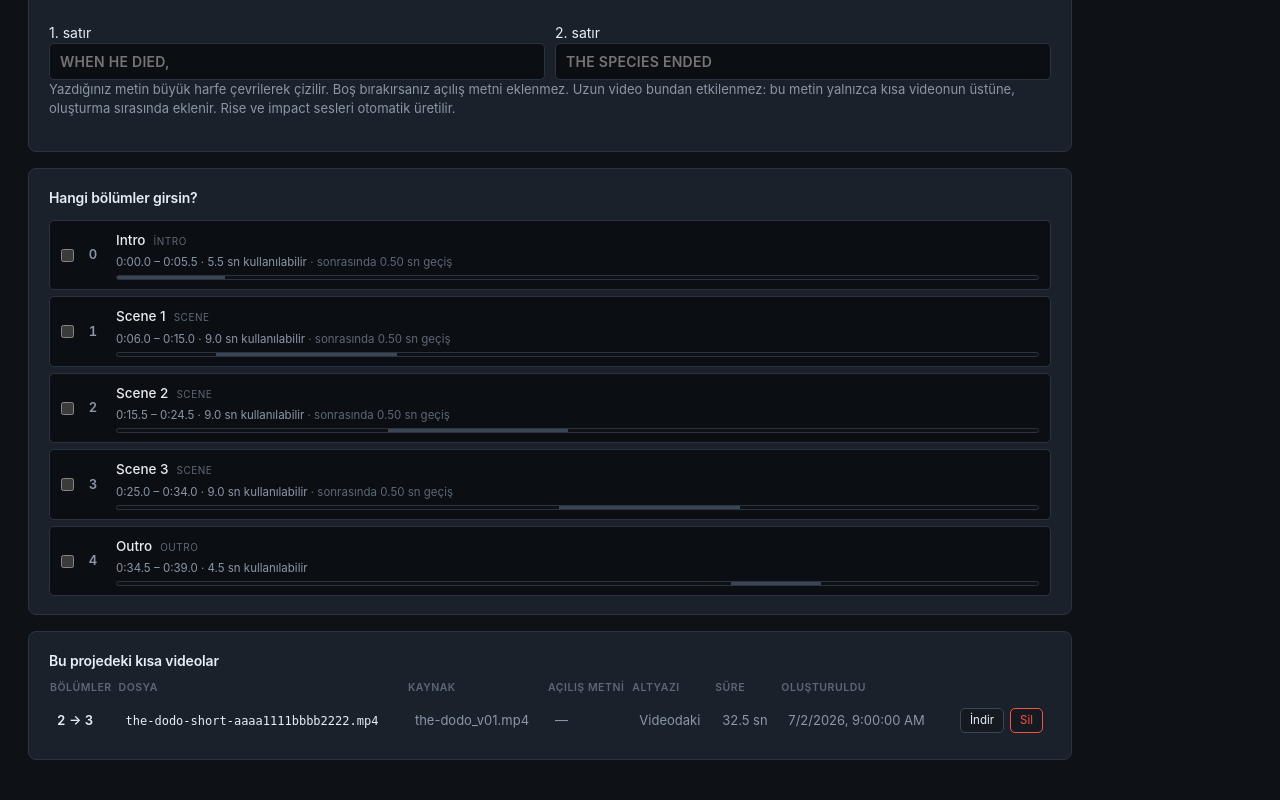
ShortsPage › confirms before deleting, and deletes only that Short
(page scrolled)
Step 1. Click the button "Sil" → (1026, 721), box [1010,708,1043,733]
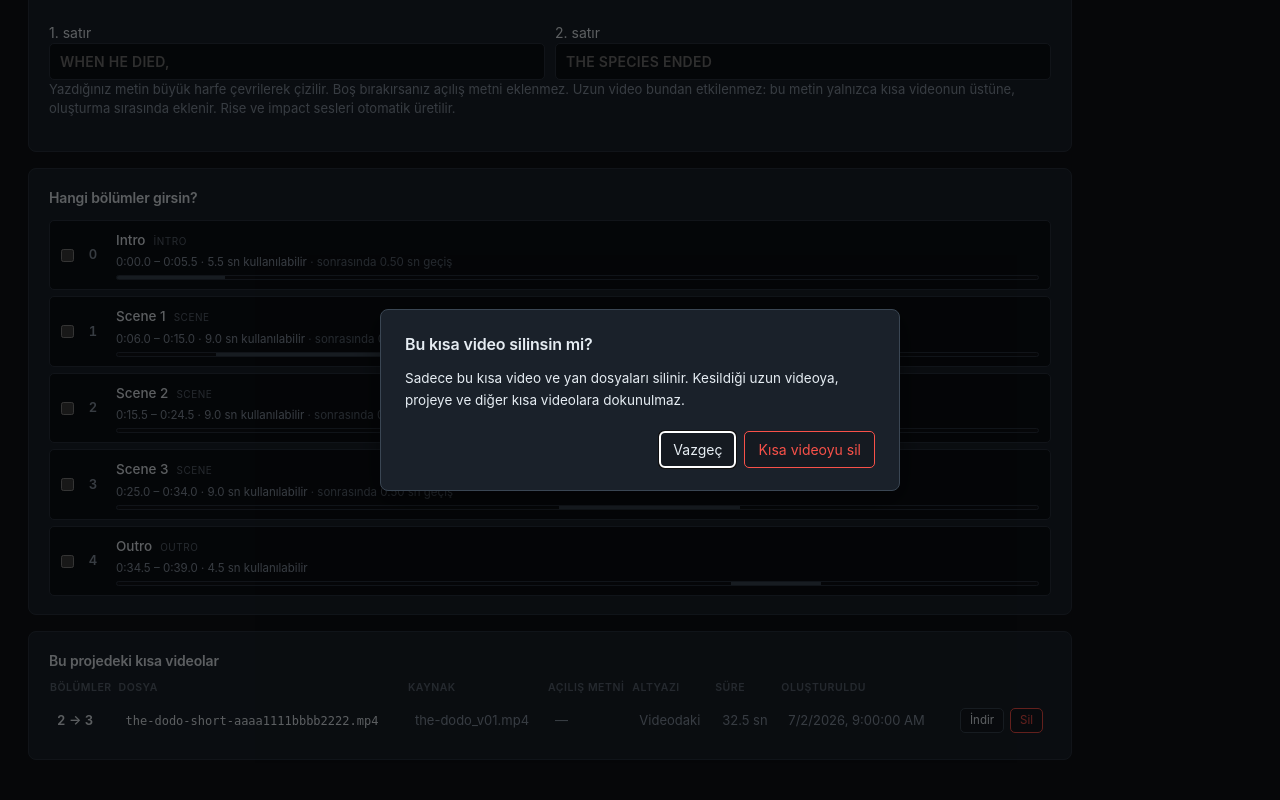
Expected: the dialog shows "Kesildiği uzun videoya", [405,370,838,408]
Step 2. Click the button "Kısa videoyu sil" → (810, 450), box [744,431,875,468]
(page scrolled)
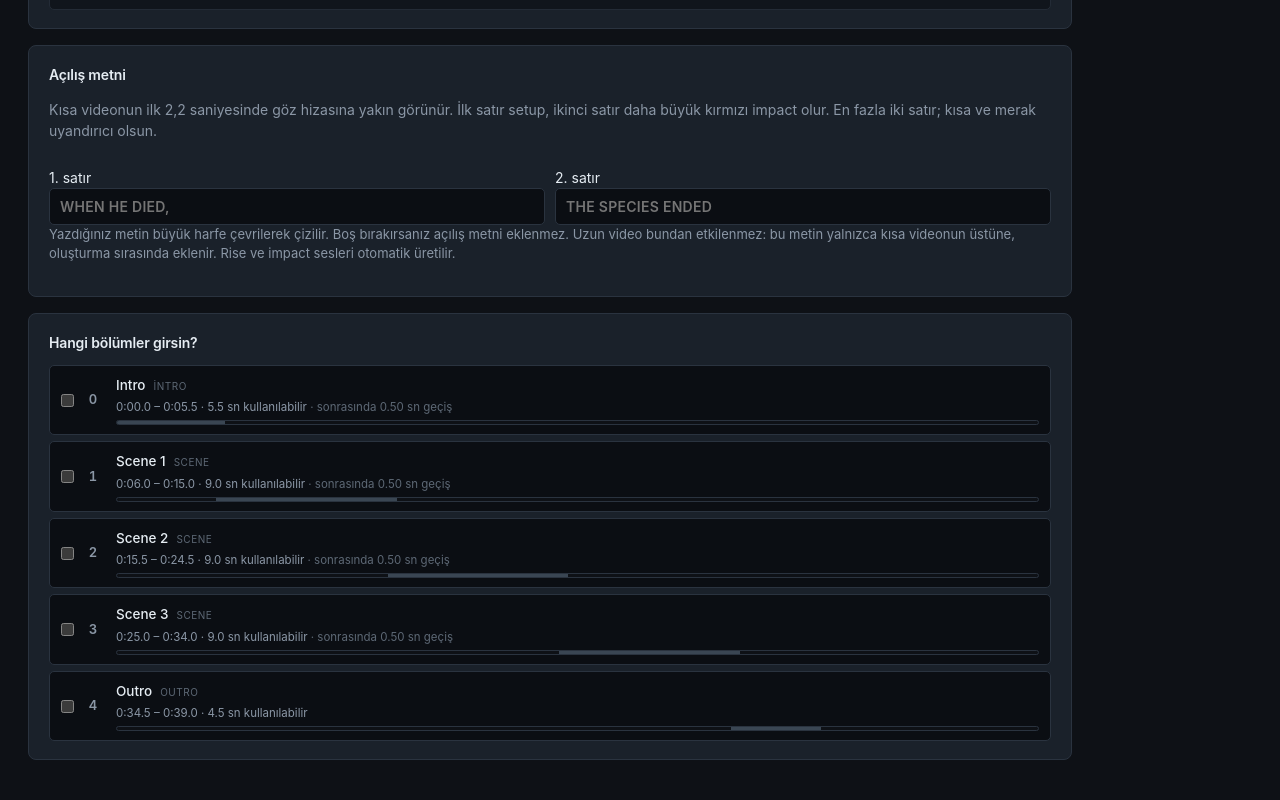
Expected: the text "the-dodo-short-aaaa1111bbbb2222.mp4" is gone
